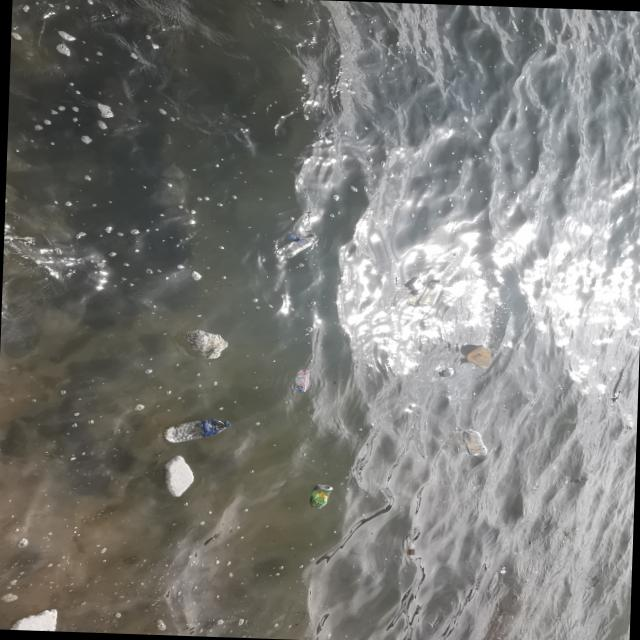can: (306, 483, 334, 508)
foam: (0, 605, 58, 631), (182, 328, 227, 360), (162, 454, 194, 499), (404, 275, 424, 294)
plastic: (161, 417, 228, 444), (274, 232, 316, 258), (416, 277, 441, 308), (461, 428, 487, 456), (404, 538, 414, 560), (439, 367, 453, 376)
plastic bottle: (463, 344, 492, 368)
unknow: (294, 369, 308, 392)
